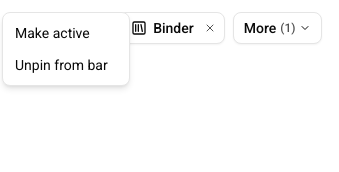
OpenCollectionButtons › 'Unpin from bar' in the context menu unpins the entity
Click the menu item "Unpin from bar".
click(61, 65)  # box [15,57,108,73]
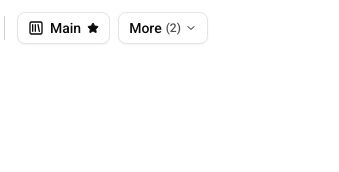
expect the element with test id "open-entity-c2" is gone: met
